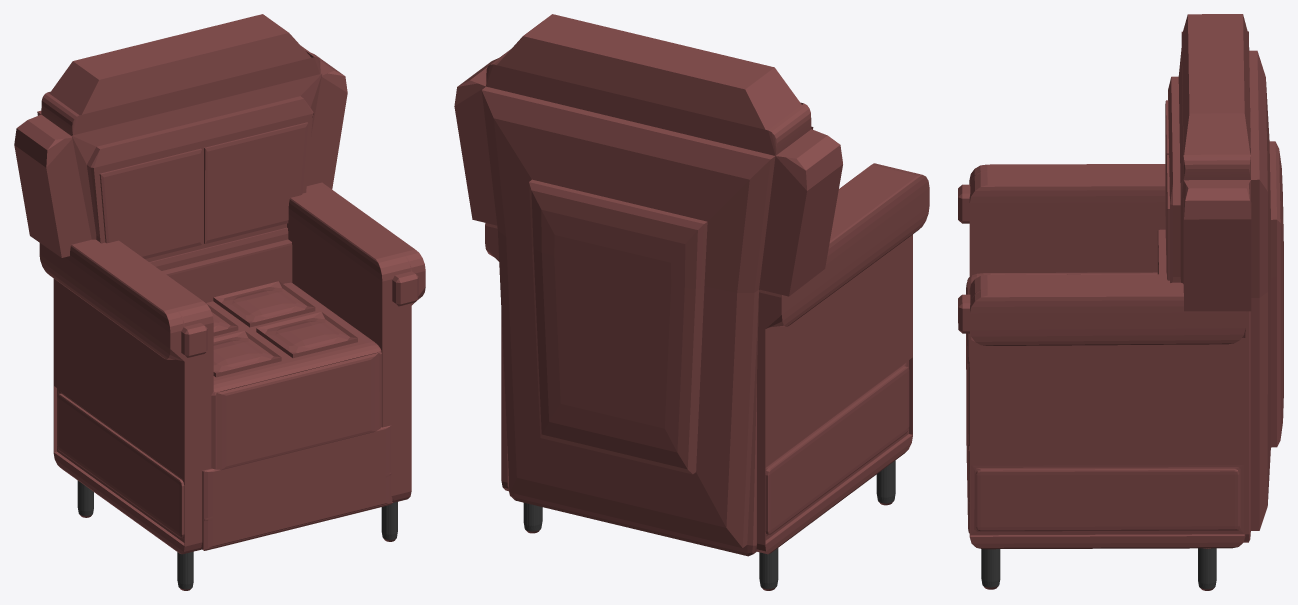
File: poltrona.fbx
3 views of the same model, side by side, from view 1: azimuth 30°, elevation 25°; view 2: azimuth 150°, elevation 25°; view 3: azimuth 270°, elevation 25° (orthographic). The views are drawn at different scales.
Visible parts, largest first — view 1: Cubo.032; view 2: Cubo.032; view 3: Cubo.032.
Boxes of the visible parts, x1,y1,x2,y2 form: Cubo.032: [14, 14, 425, 590]; Cubo.032: [454, 14, 929, 590]; Cubo.032: [958, 14, 1283, 590].
Bounding box in the file's own units: 128 × 178 × 112.
